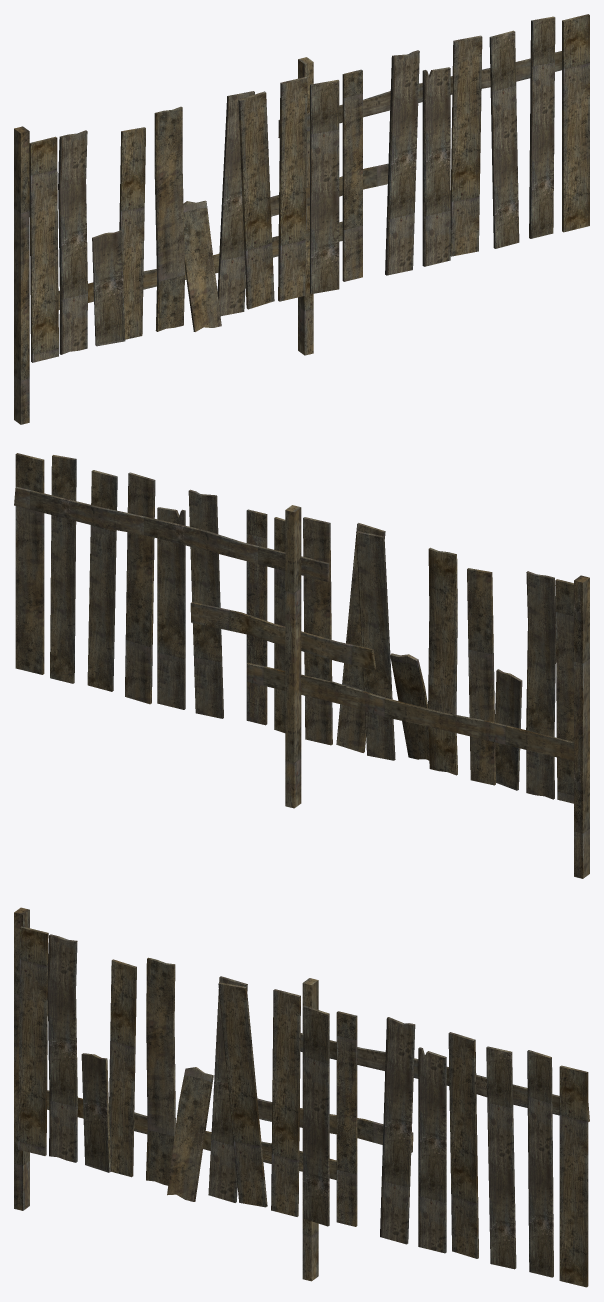
File: Graveyard_WoodenFence.fbx
The picture shows the model from 3 angles, top to bottom: view 1: azimuth 30°, elevation 25°; view 2: azimuth 150°, elevation 25°; view 3: azimuth 330°, elevation 25°; orthographic projection.
Visible parts, largest first — view 1: Graveyard_WoodenFence; view 2: Graveyard_WoodenFence; view 3: Graveyard_WoodenFence.
Part boxes in pixels (x1,y1,x2,y2): Graveyard_WoodenFence: (14, 14, 589, 424); Graveyard_WoodenFence: (14, 453, 589, 878); Graveyard_WoodenFence: (14, 907, 589, 1287).
Bounding box in the file's own units: 5.99 × 2.94 × 0.344.
